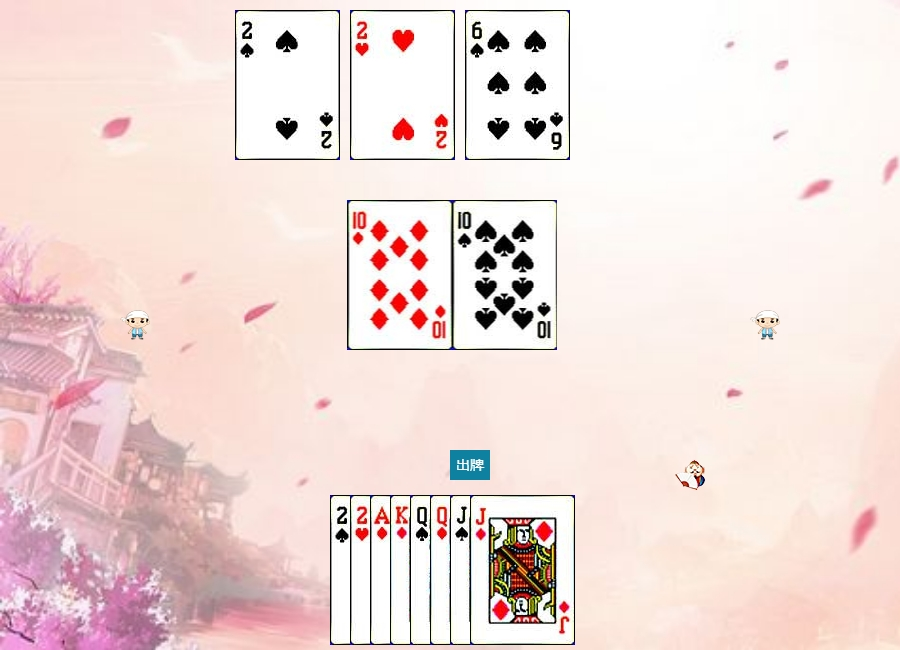10~1: (348, 200, 453, 350)
10~4: (453, 200, 558, 350)
11~1: (470, 495, 575, 645)
11~4: (450, 495, 555, 645)
12~1: (430, 495, 535, 645)
12~4: (410, 495, 515, 645)
13~1: (390, 495, 495, 645)
14~1: (370, 495, 475, 645)
15~3: (350, 10, 455, 160), (350, 495, 455, 645)
15~4: (235, 10, 340, 160), (330, 495, 435, 645)
6~4: (465, 10, 570, 160)
